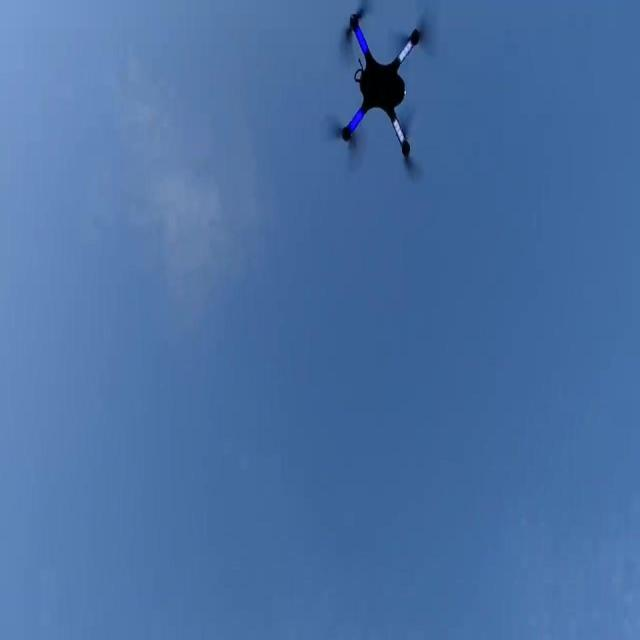drone: (334, 2, 430, 180)
